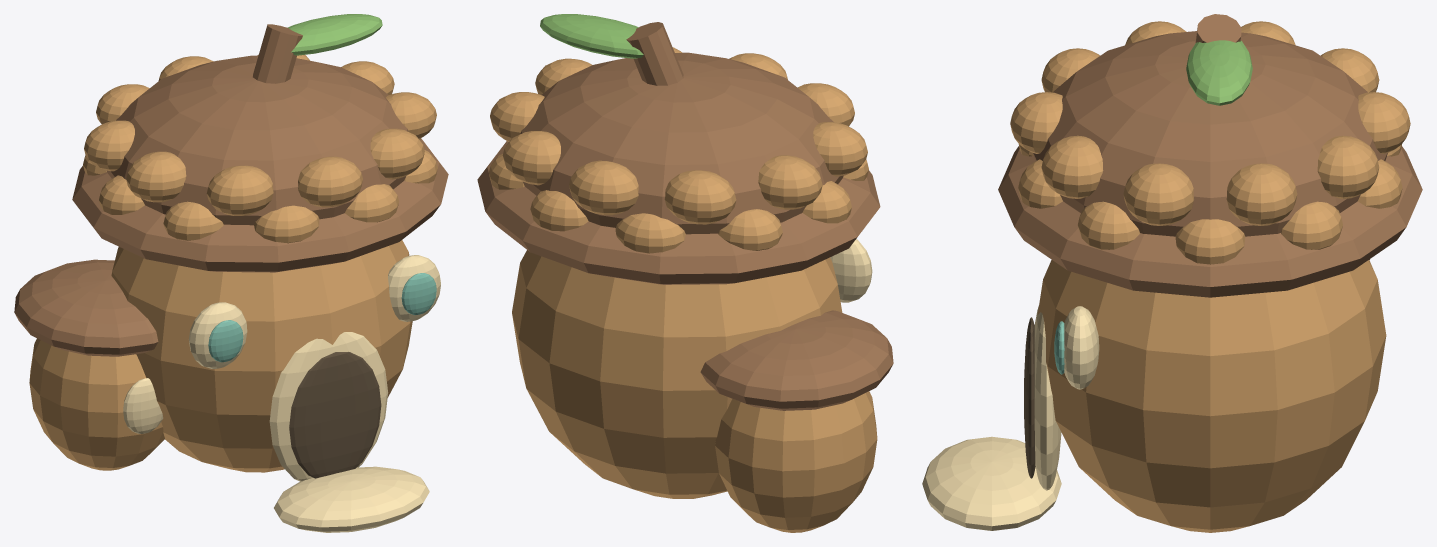
Rendered from AntAcornHome2.fbx.
3 views of the same model, side by side, from view 1: azimuth 30°, elevation 25°; view 2: azimuth 150°, elevation 25°; view 3: azimuth 270°, elevation 25° (orthographic). The views are drawn at different scales.
Parts seen in each view (by area): view 1: Acorn body.001, Cap dome.001, Cap brim.001, Extra sleeping room, Room cap, Round doorway.001, Doorstep.001, Round door frame.001, Carved cap scale.036, Carved cap scale.037, Stem leaf.001, Carved cap scale.035 (+17 smaller); view 2: Acorn body.001, Cap dome.001, Extra sleeping room, Cap brim.001, Room cap, Carved cap scale.033, Stem leaf.001, Carved cap scale.032, Carved cap scale.034, Carved cap scale.031, Curved stem.001, Carved cap scale.035 (+10 smaller); view 3: Acorn body.001, Cap dome.001, Cap brim.001, Doorstep.001, Stem leaf.001, Carved cap scale.030, Carved cap scale.039, Round door frame.001, Carved cap scale.031, Carved cap scale.038, Carved cap scale.020, Round window.003 (+12 smaller).
Part boxes in pixels (box(x1,y1,x2,y2)): Acorn body.001: box(111, 240, 412, 472); Cap dome.001: box(107, 55, 408, 225); Cap brim.001: box(72, 138, 448, 272); Extra sleeping room: box(29, 338, 164, 470); Room cap: box(14, 259, 158, 356); Round doorway.001: box(289, 352, 381, 478); Doorstep.001: box(274, 466, 429, 532); Round door frame.001: box(269, 332, 388, 481); Carved cap scale.036: box(206, 165, 273, 215); Carved cap scale.037: box(298, 156, 362, 207); Stem leaf.001: box(287, 14, 382, 55); Carved cap scale.035: box(126, 151, 186, 202); Acorn body.001: box(512, 250, 842, 498); Cap dome.001: box(520, 52, 843, 234); Extra sleeping room: box(715, 391, 877, 532); Cap brim.001: box(477, 141, 880, 284); Room cap: box(700, 310, 893, 410); Carved cap scale.033: box(664, 170, 736, 224); Stem leaf.001: box(540, 14, 643, 58); Carved cap scale.032: box(569, 160, 638, 215); Carved cap scale.034: box(758, 155, 822, 209); Carved cap scale.031: box(502, 131, 560, 185); Curved stem.001: box(626, 22, 683, 85); Carved cap scale.035: box(813, 122, 867, 176); Acorn body.001: box(1037, 260, 1386, 532); Cap dome.001: box(1033, 31, 1387, 236); Cap brim.001: box(998, 146, 1422, 297); Doorstep.001: box(922, 436, 1061, 530); Stem leaf.001: box(1186, 40, 1252, 105); Carved cap scale.030: box(1226, 163, 1297, 225); Carved cap scale.039: box(1123, 163, 1193, 225); Round door frame.001: box(1034, 306, 1061, 490); Carved cap scale.031: box(1317, 135, 1379, 198); Carved cap scale.038: box(1041, 135, 1103, 198); Carved cap scale.020: box(1175, 219, 1245, 264); Round window.003: box(1064, 306, 1099, 389).
Bounding box in the file's own units: 172 × 186 × 165.
